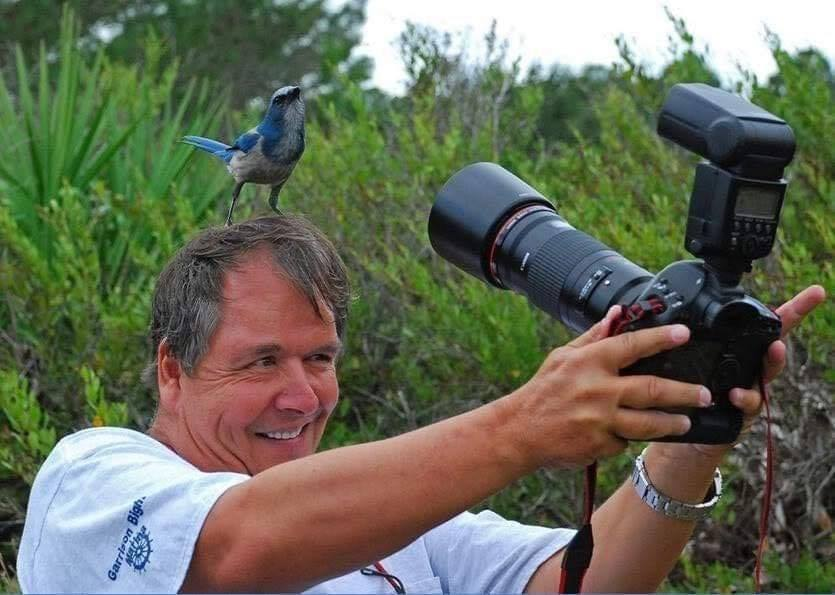bird: (172, 80, 313, 229)
camera: (422, 75, 798, 451)
person: (13, 211, 829, 595)
watch: (634, 445, 731, 523)
